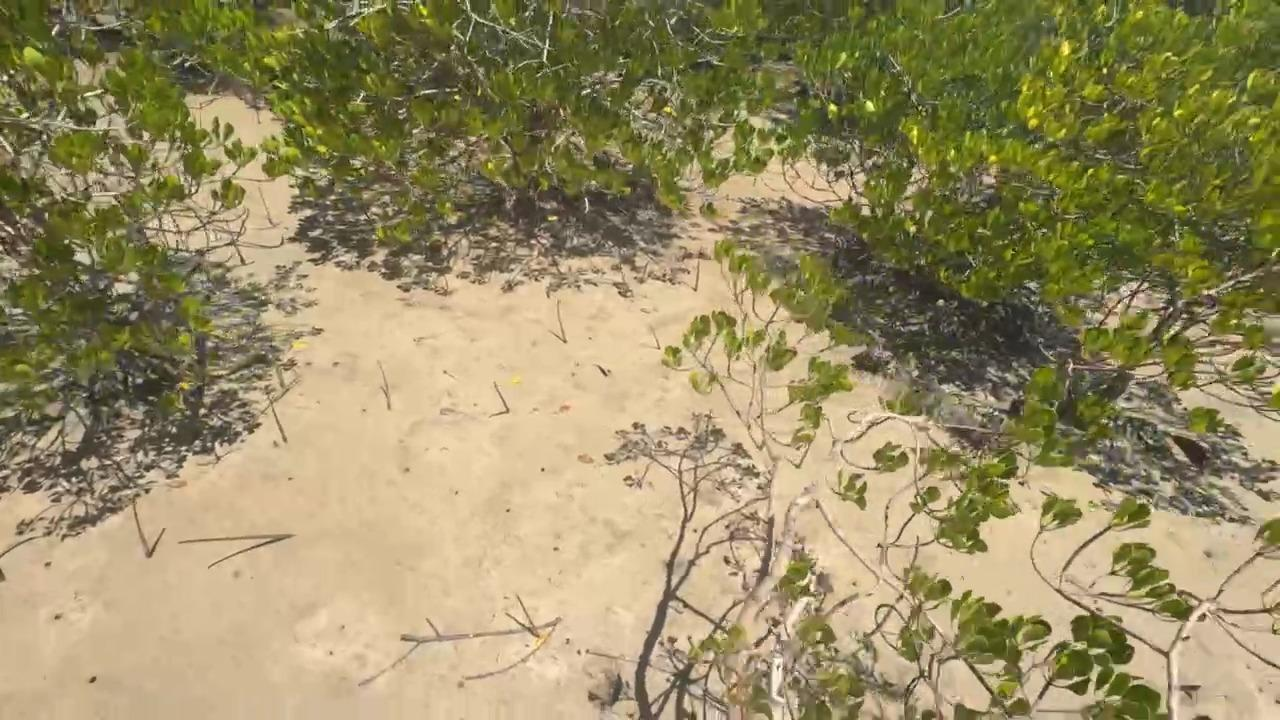Tree: (178, 533, 293, 545), (131, 494, 152, 556), (515, 594, 540, 637), (267, 392, 287, 443), (258, 187, 275, 226), (378, 359, 391, 408), (493, 381, 510, 412), (556, 300, 567, 343), (648, 325, 661, 350), (694, 261, 700, 290)
